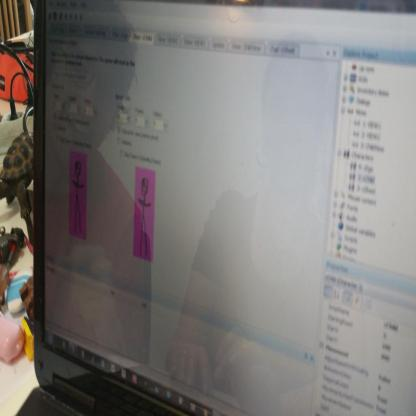board: (0, 9, 416, 416)
